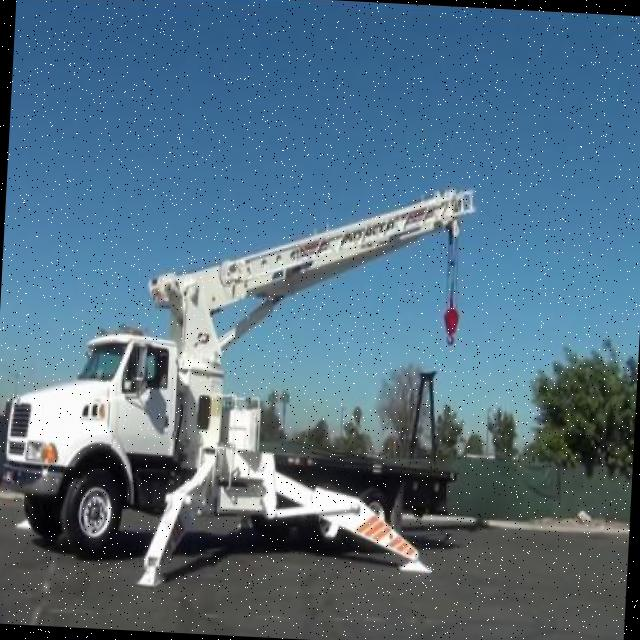Mobile Crane: (0, 141, 470, 611)
